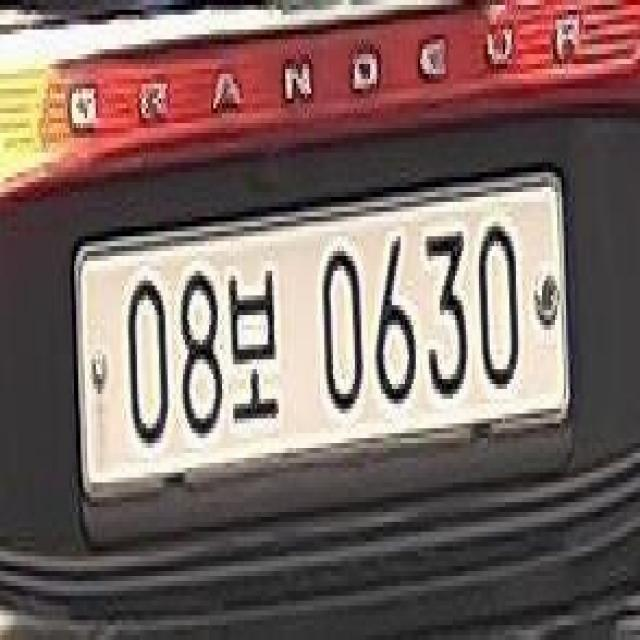illegal_plate: (74, 171, 572, 523)
